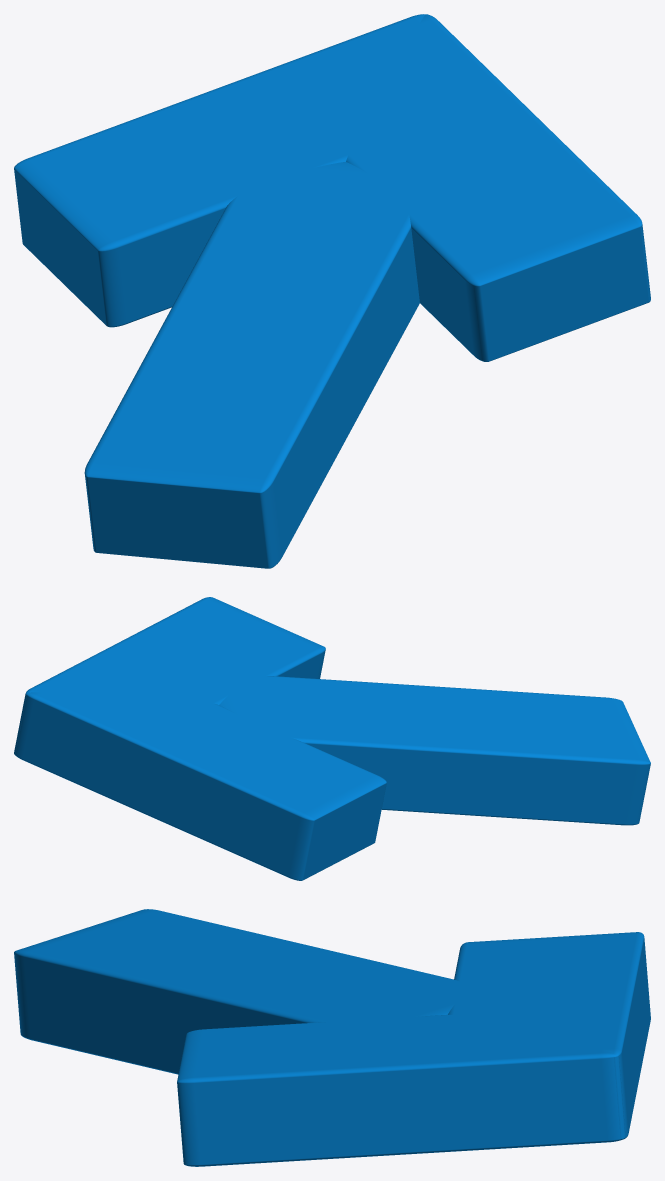
The model's file is wwu_arrow_light.glb.
3 renders of one model, top to bottom at view 1: azimuth 30°, elevation 25°; view 2: azimuth 150°, elevation 25°; view 3: azimuth 270°, elevation 25°, orthographic. The views are drawn at different scales.
Visible parts, largest first — view 1: node_id4; view 2: node_id4; view 3: node_id4.
Boxes of the visible parts, x1,y1,x2,y2 form: node_id4: (14, 14, 650, 568); node_id4: (14, 597, 650, 880); node_id4: (14, 909, 650, 1166).
Bounding box in the file's own units: 0.543 × 0.1863 × 0.5236.
1 material, 1 textured.
